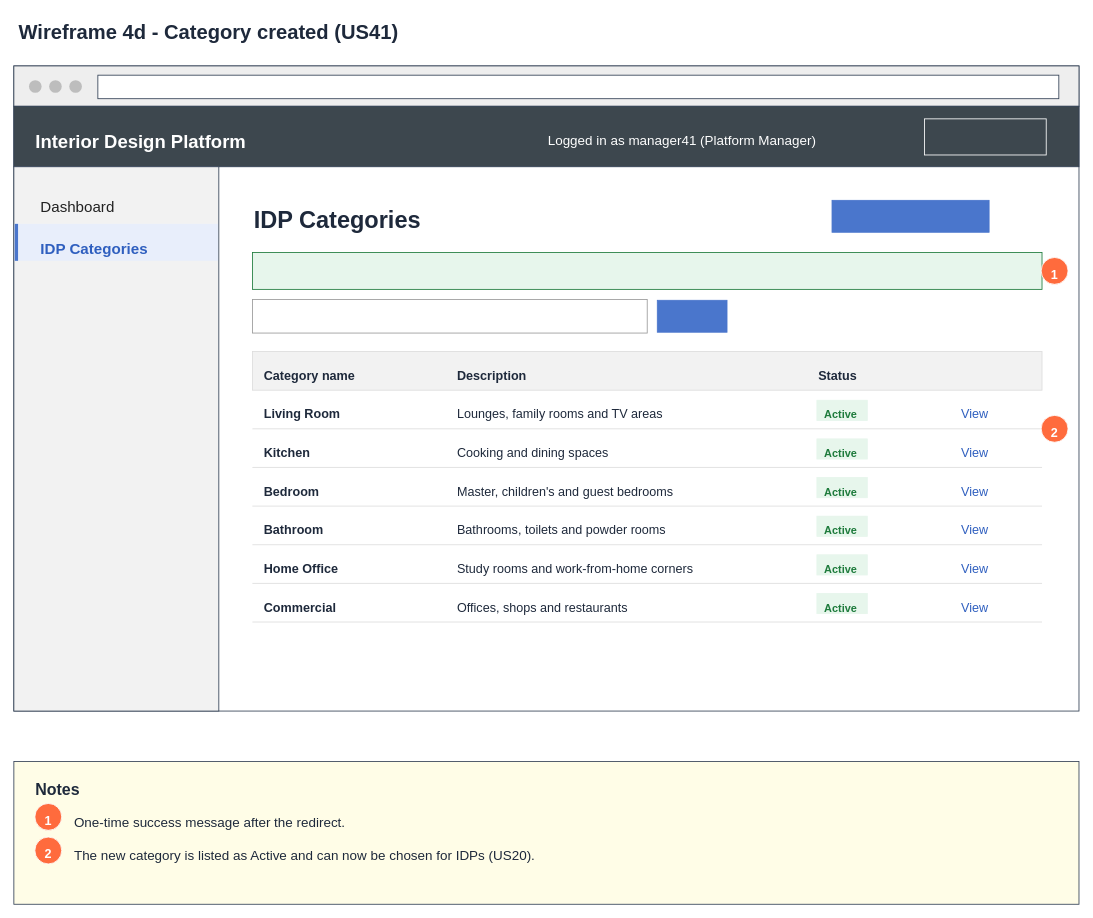
Some shapes in this 1093 by 918 pixel diagram are drawn without their labels. Each missing label, with the box of its shape:
+ Create IDP category: (831, 200, 989, 232)
localhost:5000/manager/categories: (97, 74, 1059, 99)
Log out: (924, 118, 1046, 155)
Search: (656, 299, 727, 332)
Search by name or description: (252, 299, 647, 333)
✓ IDP category created successfully: (252, 252, 1042, 289)
